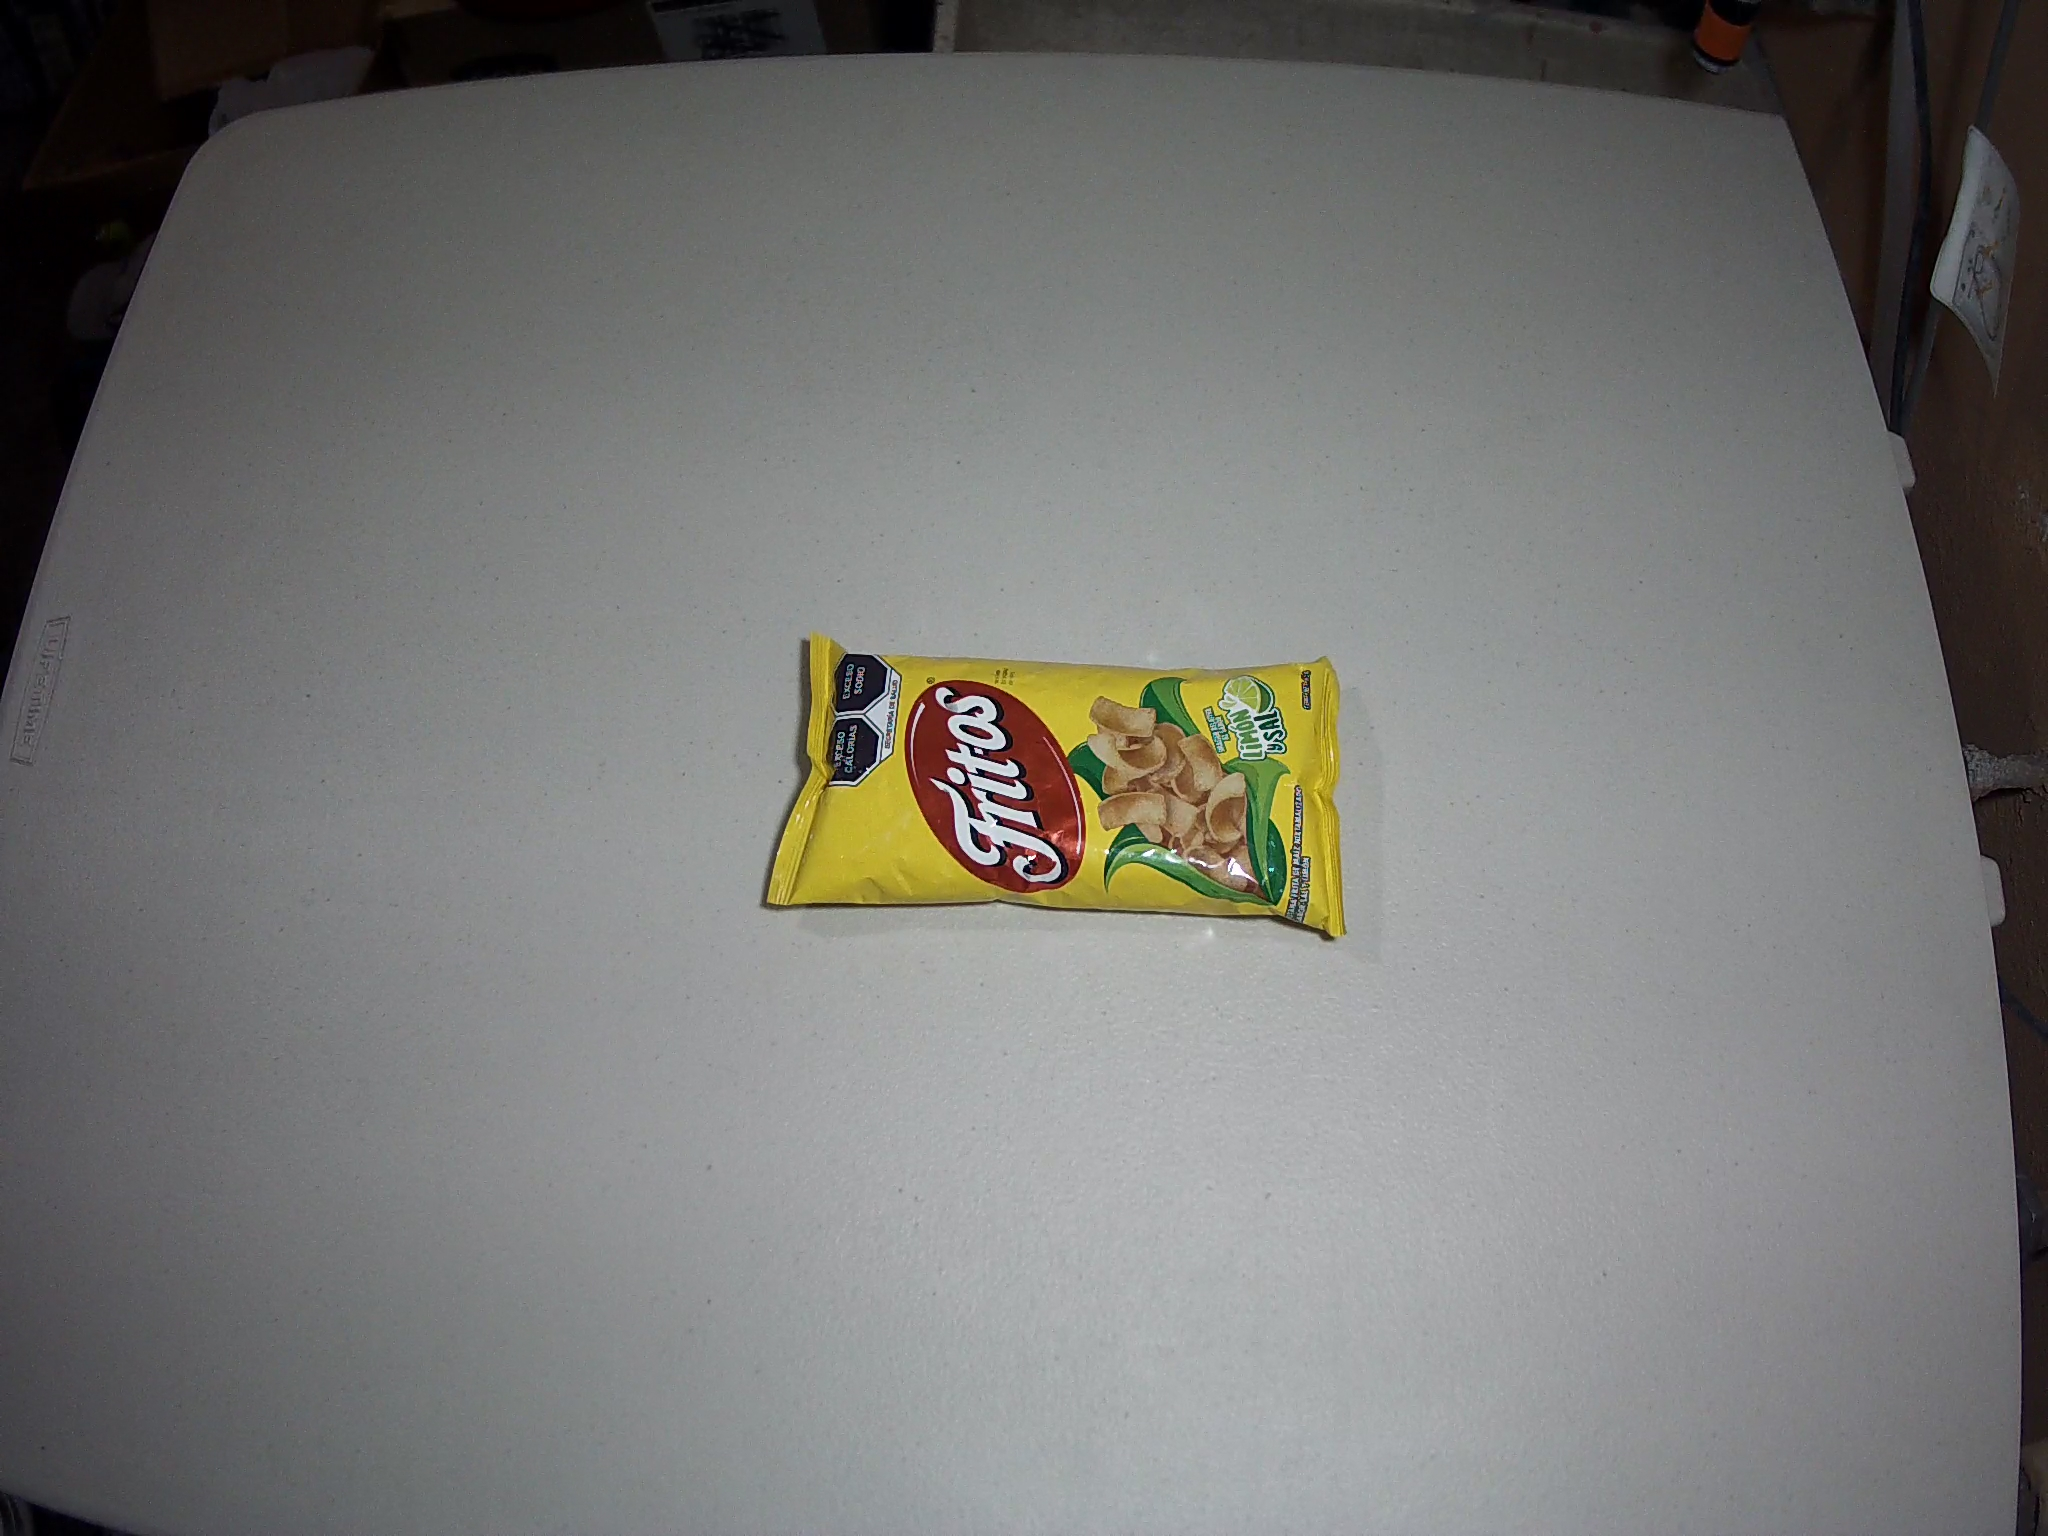FritosSalLimon_65_F: (764, 632, 1345, 944)
